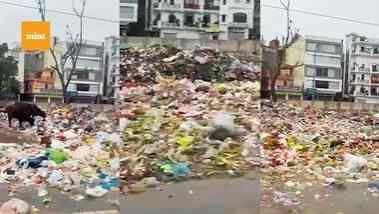general_waste: (0, 43, 379, 201)
